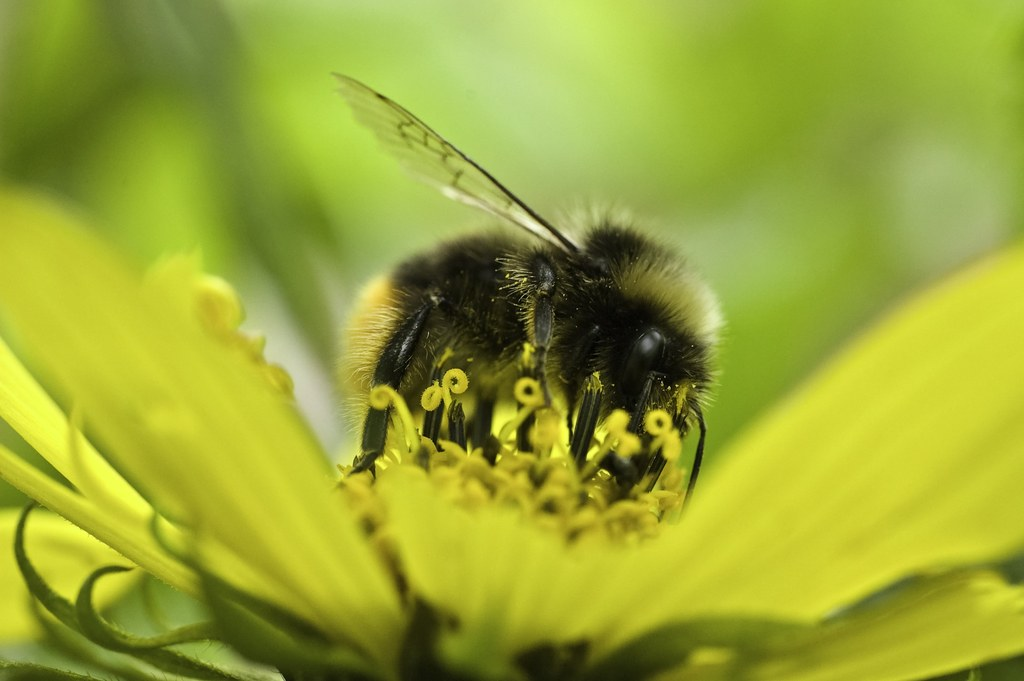bee: (333, 70, 727, 514)
